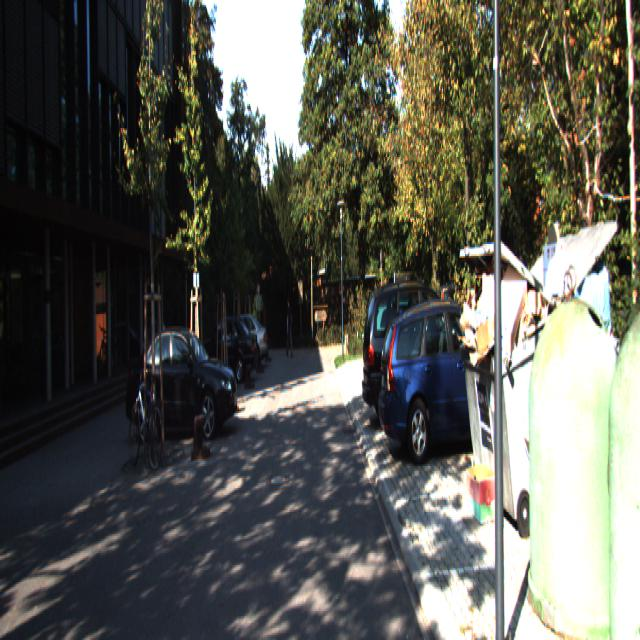Car: (377, 295, 529, 464), (360, 278, 478, 430), (125, 326, 239, 442), (193, 317, 259, 388), (215, 315, 268, 371)
